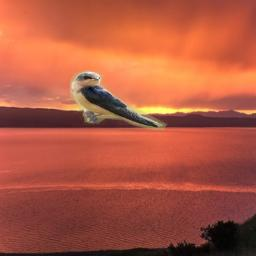Swallow: (70, 68, 168, 130)
